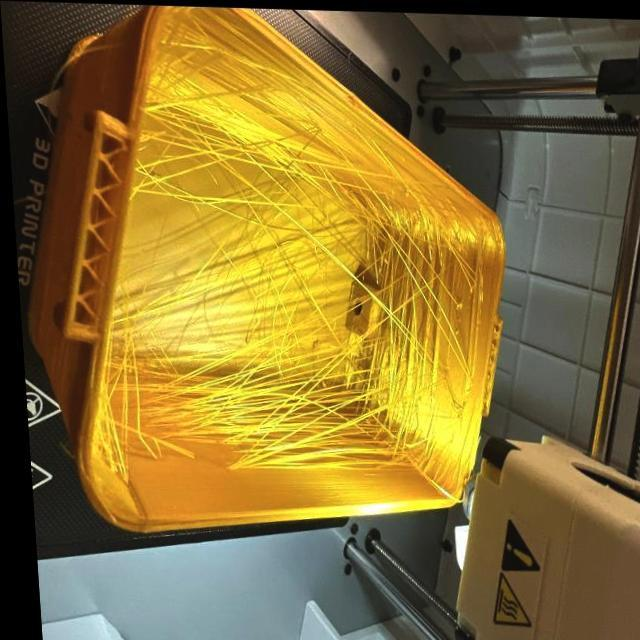stringing: (230, 356, 350, 458), (102, 361, 230, 454), (152, 79, 245, 176), (372, 215, 452, 322), (364, 320, 438, 430), (258, 138, 335, 240)
